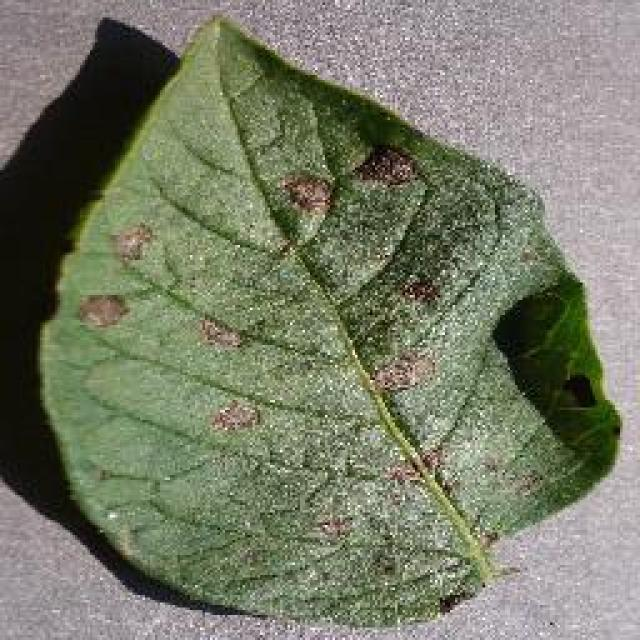early_blight: (30, 12, 625, 632)
